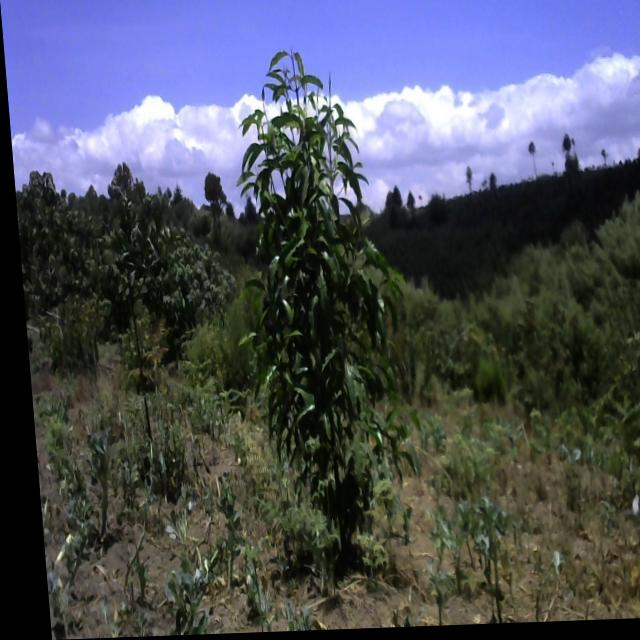Hass Avocado: (218, 38, 415, 571), (81, 184, 188, 440)
cedrus: (214, 276, 262, 380), (463, 360, 501, 408)
other: (11, 167, 81, 327), (140, 217, 230, 331)
